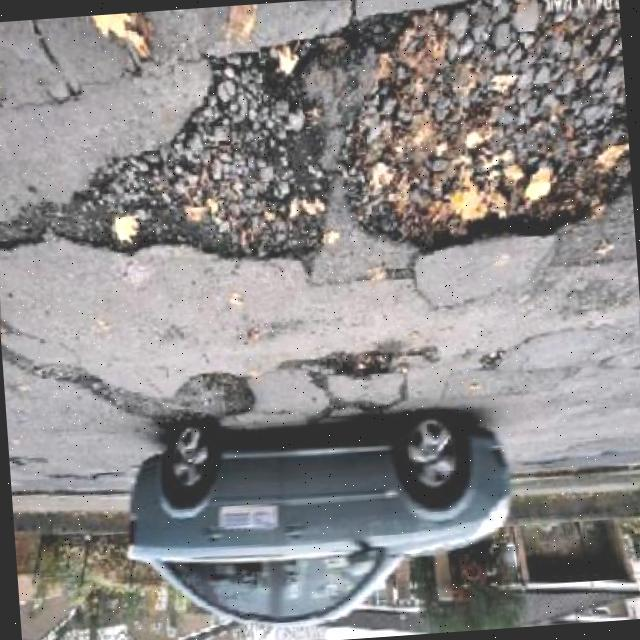Pothole: (0, 0, 632, 259)
